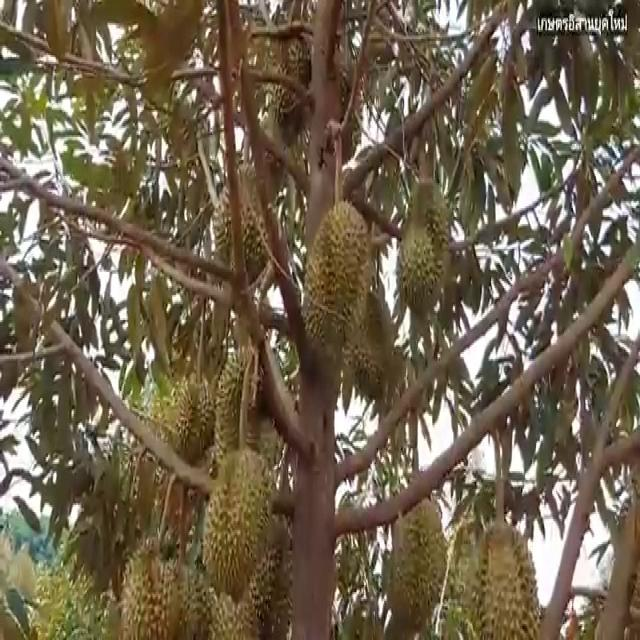durian: (198, 438, 278, 603), (297, 193, 375, 360), (381, 478, 450, 638), (206, 343, 289, 466), (470, 513, 547, 638), (207, 155, 282, 283), (394, 174, 455, 324), (112, 529, 182, 638), (239, 508, 299, 633), (342, 283, 396, 410), (192, 548, 261, 638), (268, 29, 317, 152), (153, 546, 216, 638), (162, 368, 216, 471)
